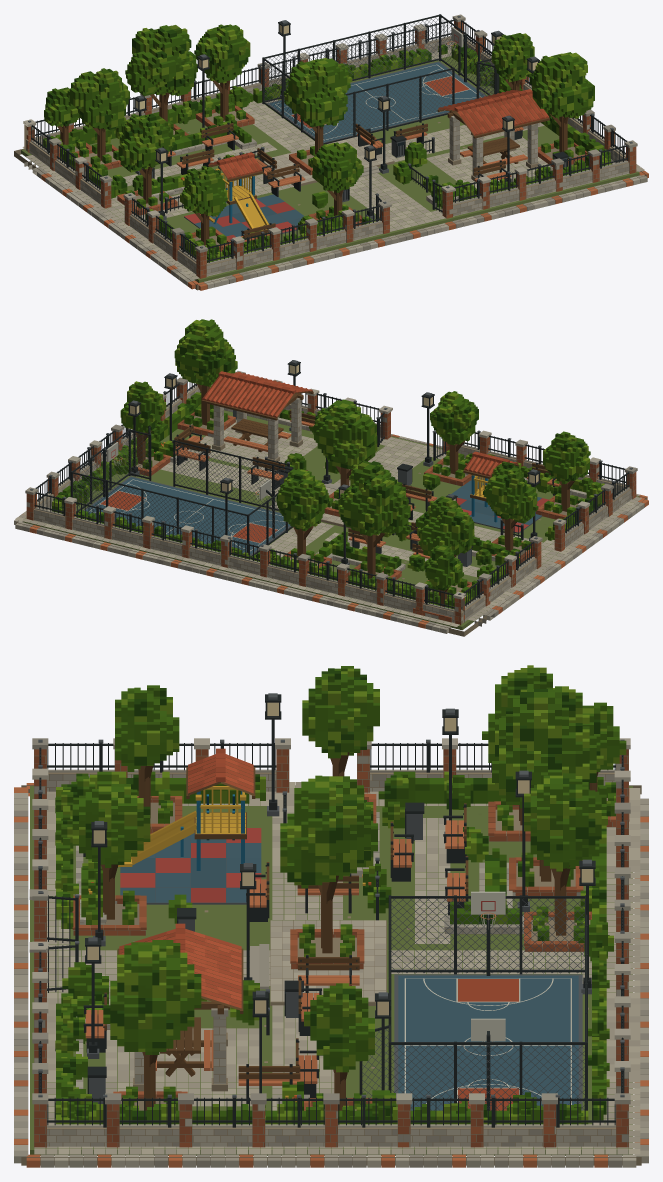
The model's file is SM_StreetFrontage_118.fbx.
3 renders of one model, top to bottom at view 1: azimuth 30°, elevation 25°; view 2: azimuth 150°, elevation 25°; view 3: azimuth 270°, elevation 25°, orthographic. The views are drawn at different scales.
Visible parts, largest first — view 1: SM_StreetFrontage_118; view 2: SM_StreetFrontage_118; view 3: SM_StreetFrontage_118.
Boxes of the visible parts, x1,y1,x2,y2 form: SM_StreetFrontage_118: (14,14,648,290); SM_StreetFrontage_118: (14,319,648,636); SM_StreetFrontage_118: (14,665,648,1167).
Bounding box in the file's own units: 80 × 56.85 × 19.9.
